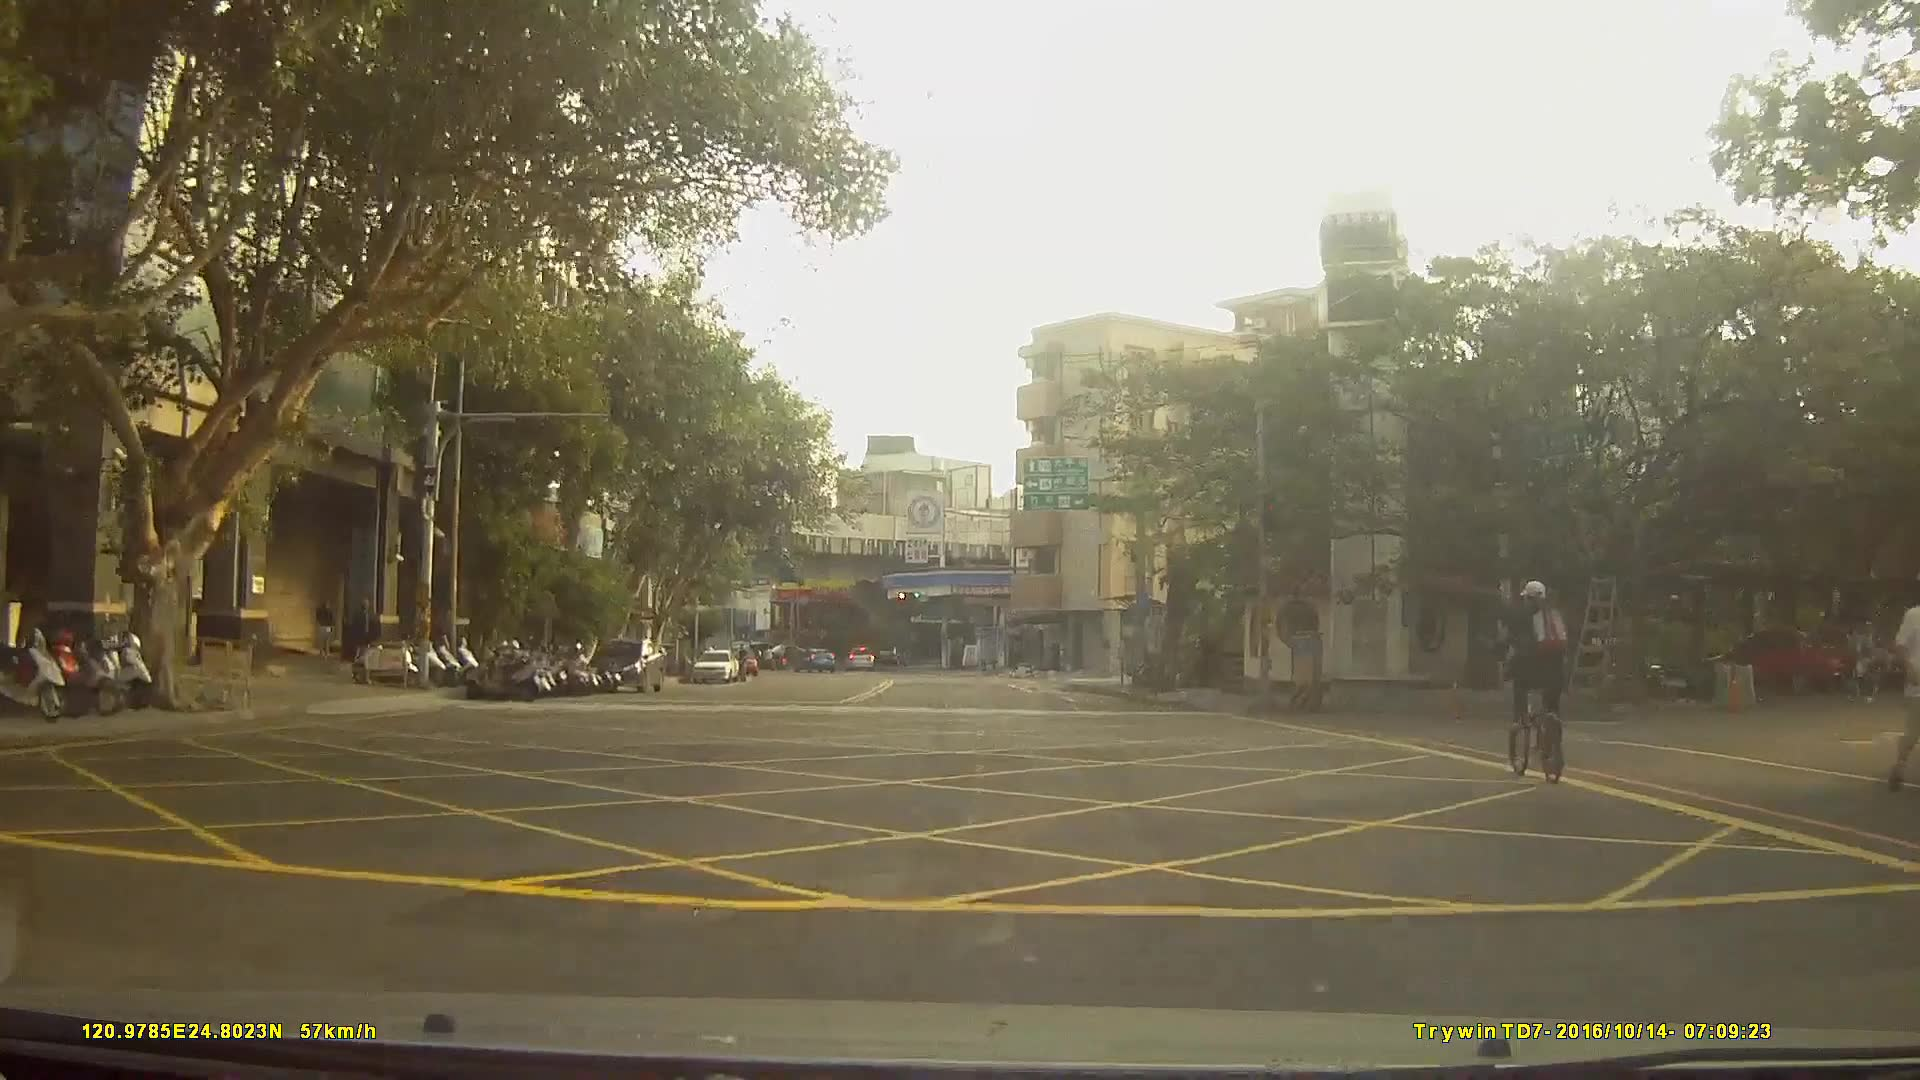pedestrian: (1892, 569, 1920, 791), (314, 599, 336, 662)
rider: (1492, 578, 1568, 788)
vehicle: (1700, 622, 1842, 693), (590, 636, 664, 692), (690, 648, 738, 685), (795, 643, 835, 670), (845, 643, 876, 670)
